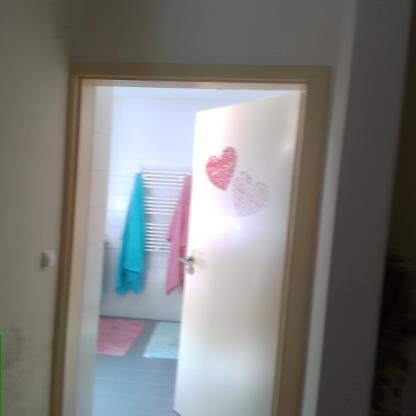semi: (85, 39, 338, 416)
